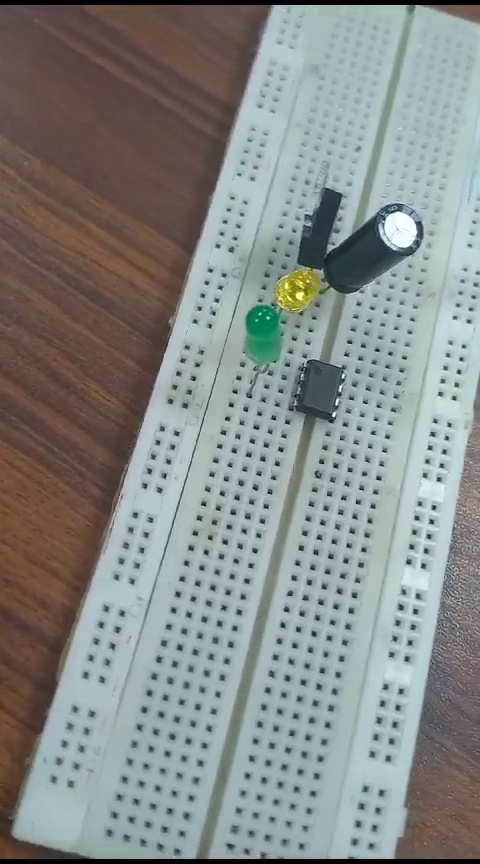IC: (298, 352, 344, 427)
LED: (240, 304, 284, 396), (276, 268, 319, 312)
capacitor: (350, 181, 420, 305)
voltage regulator: (304, 152, 339, 271)
